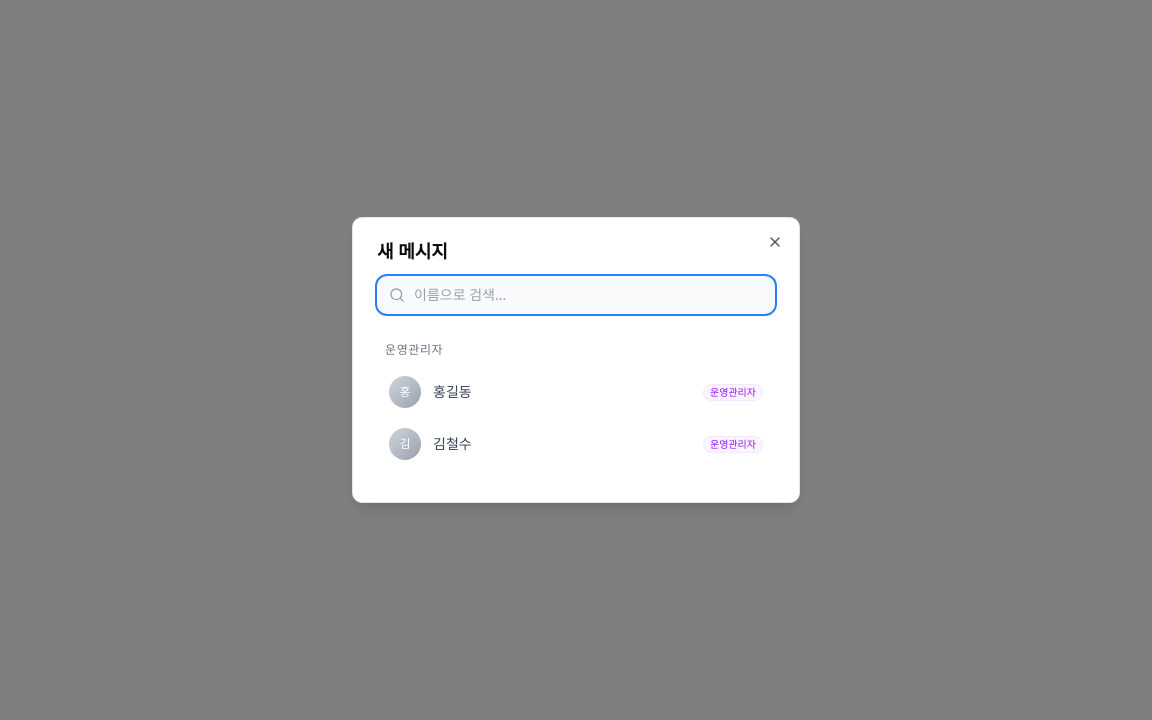
NewConversationDialog › 수신자 검색 › 검색어를 입력하면 해당 이름만 표시된다
The image size is (1152, 720).
Expected: the text "홍길동" is shown, 433,382 -> 472,401
In the field with placeholder "이름으로 검색...": (576, 295) 377,276 -> 775,314, type "홍"
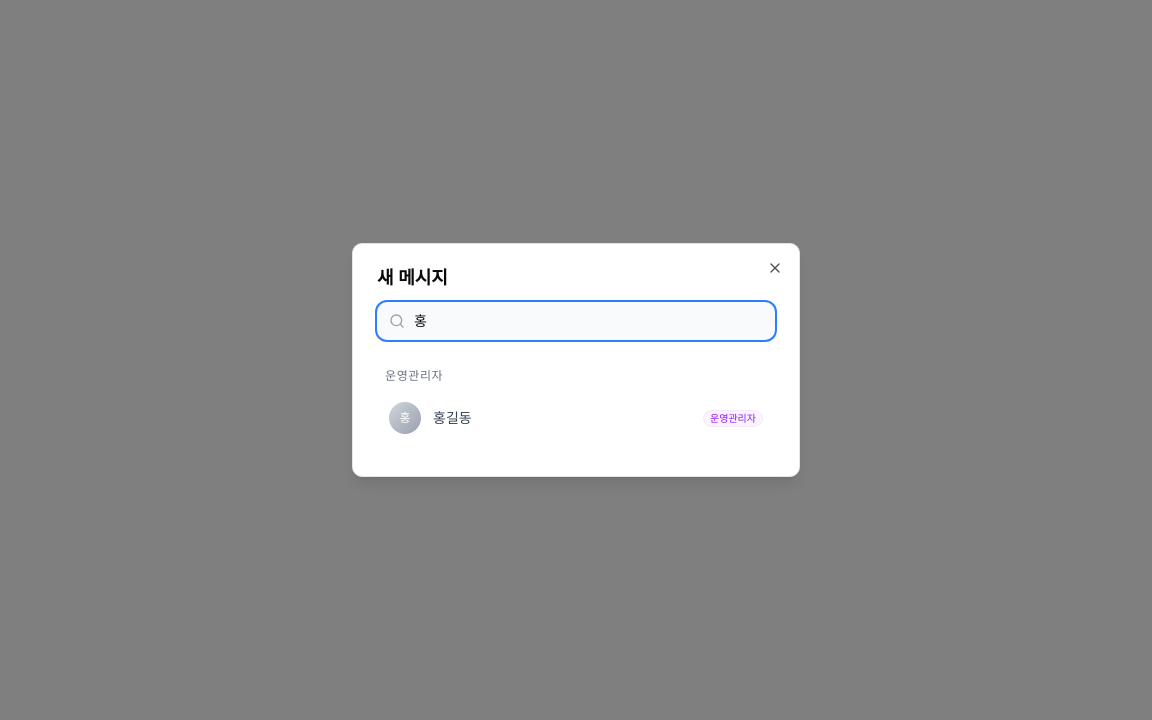
Expected: the text "홍길동" is shown, 433,408 -> 472,427
Result: the button "김철수" is gone
